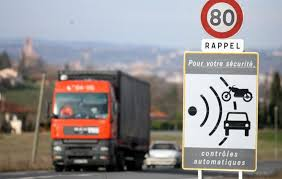Speed_limit_80km: (200, 1, 243, 39)
